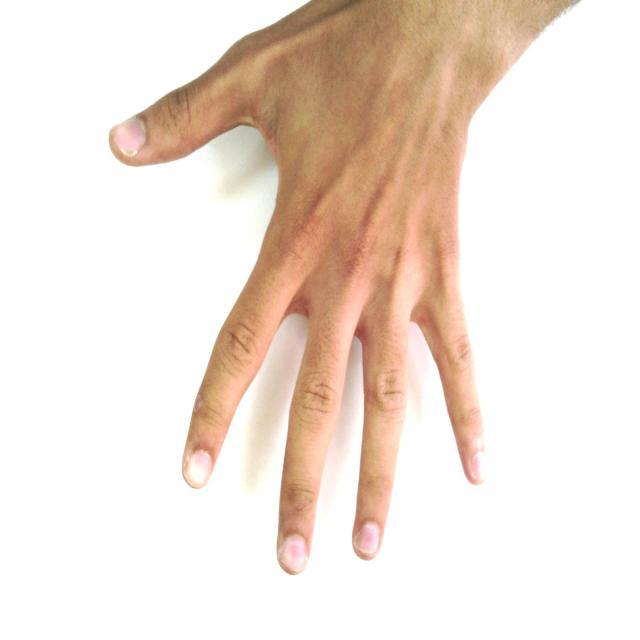Fingernail: (113, 118, 145, 154), (281, 535, 307, 572), (187, 452, 211, 487), (358, 522, 379, 555), (471, 454, 483, 482)
